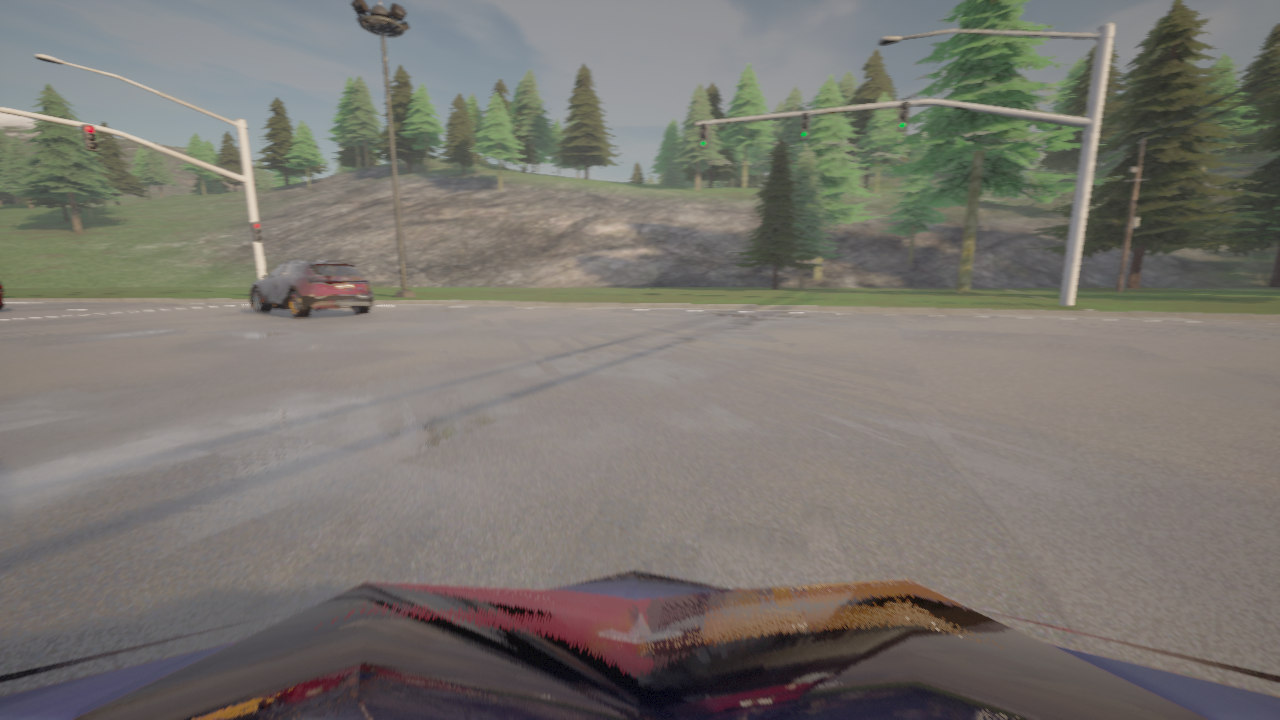cyclist: (0, 569, 1279, 719), (250, 259, 372, 318)
